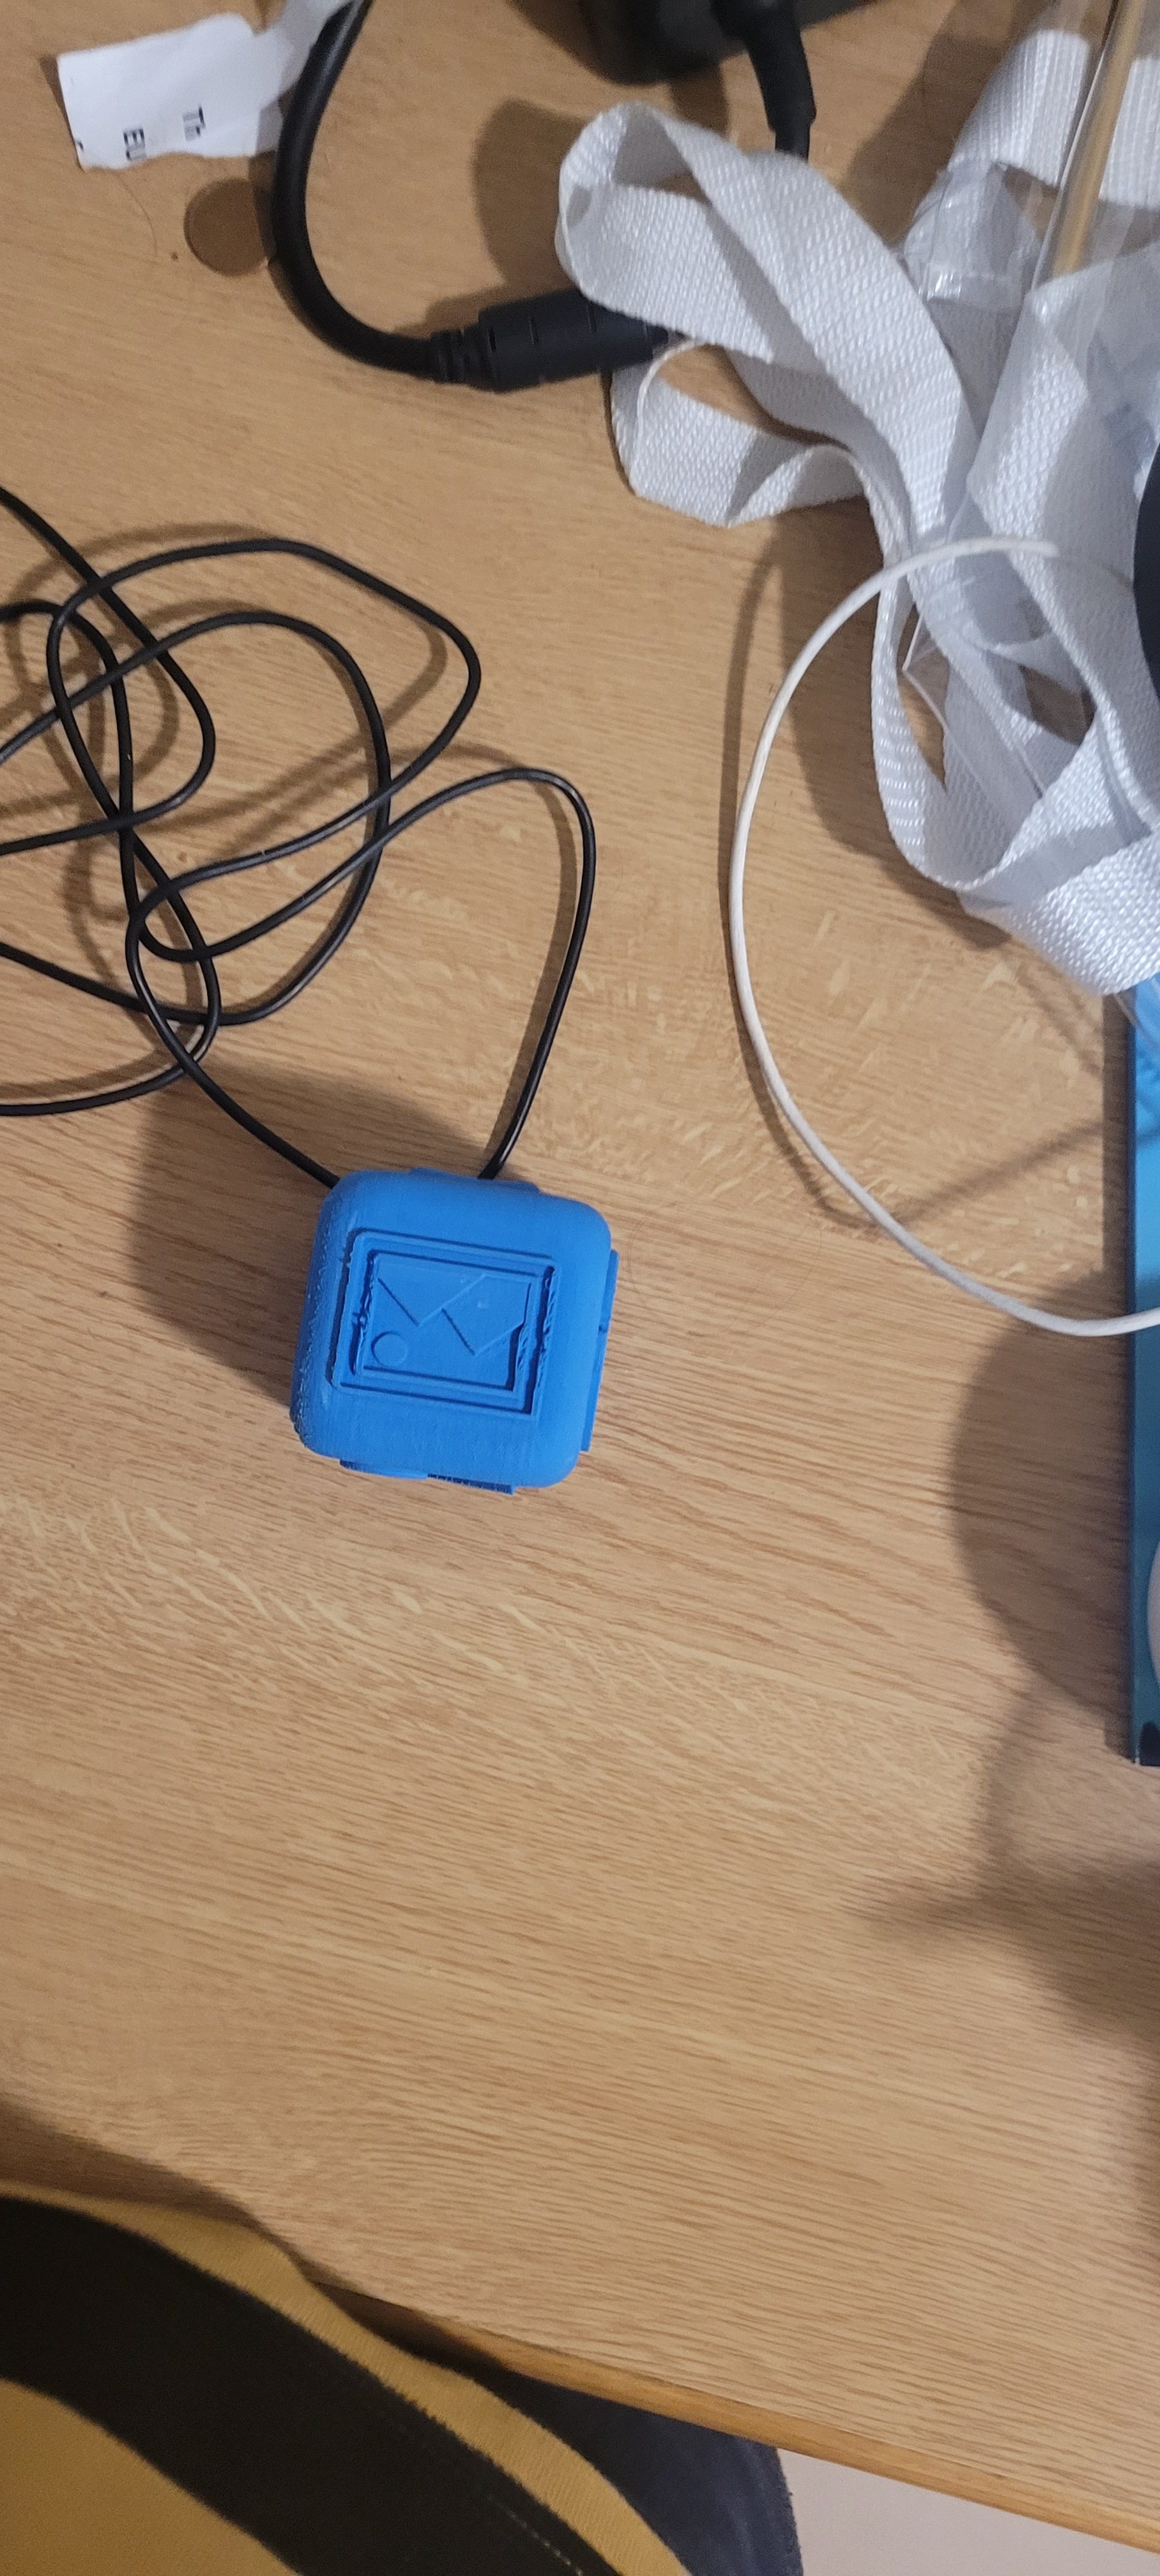Story: (334, 1184, 588, 1460)
